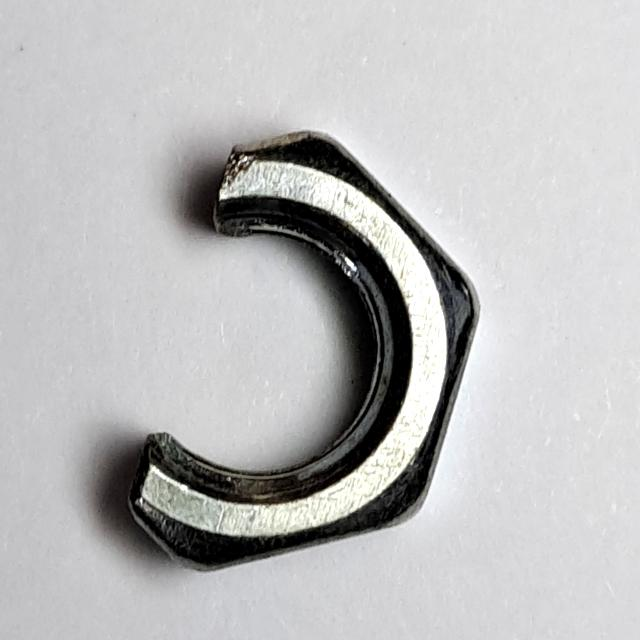Fracture: (111, 119, 497, 592)
